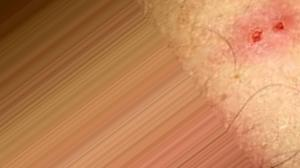Spider: (248, 16, 299, 53), (248, 10, 290, 51)
